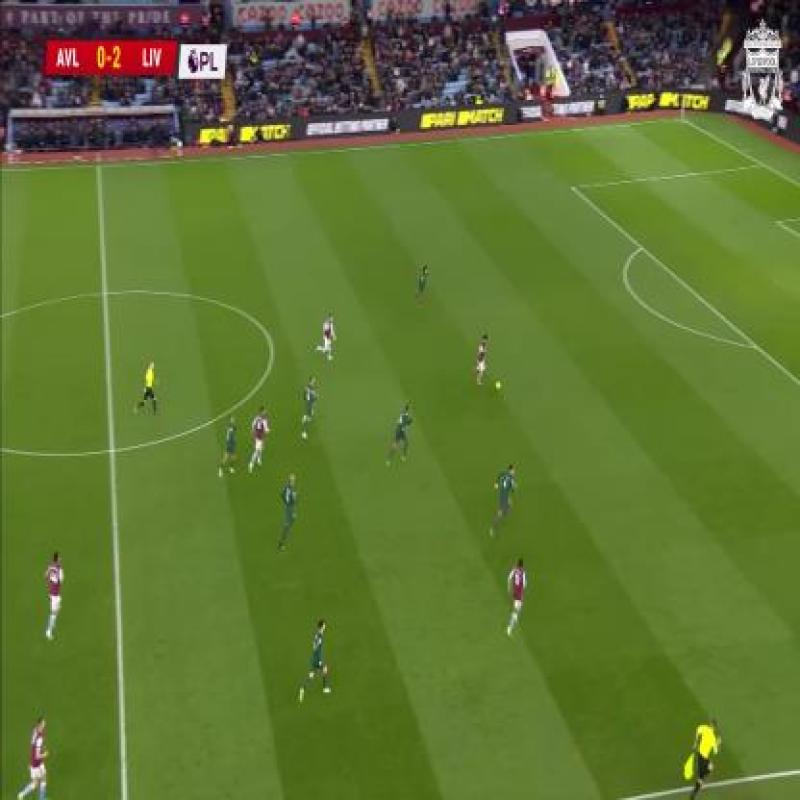1: (674, 115, 689, 125)
10: (634, 241, 650, 258)
11: (746, 334, 764, 360)
13: (92, 158, 108, 179)
14: (96, 281, 112, 306)
15: (100, 435, 125, 467)
2: (758, 160, 768, 172)
7: (775, 216, 785, 228)
9: (566, 178, 581, 196)
c: (246, 324, 297, 378)
